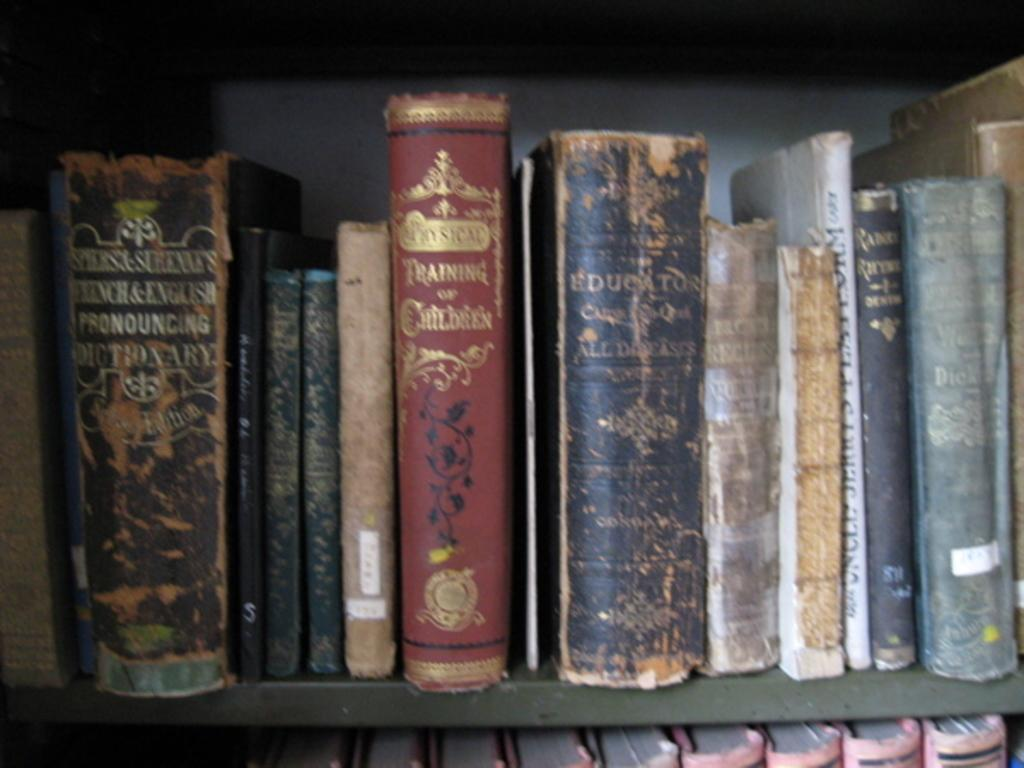Book: (0, 55, 1022, 701), (247, 707, 1022, 766)
